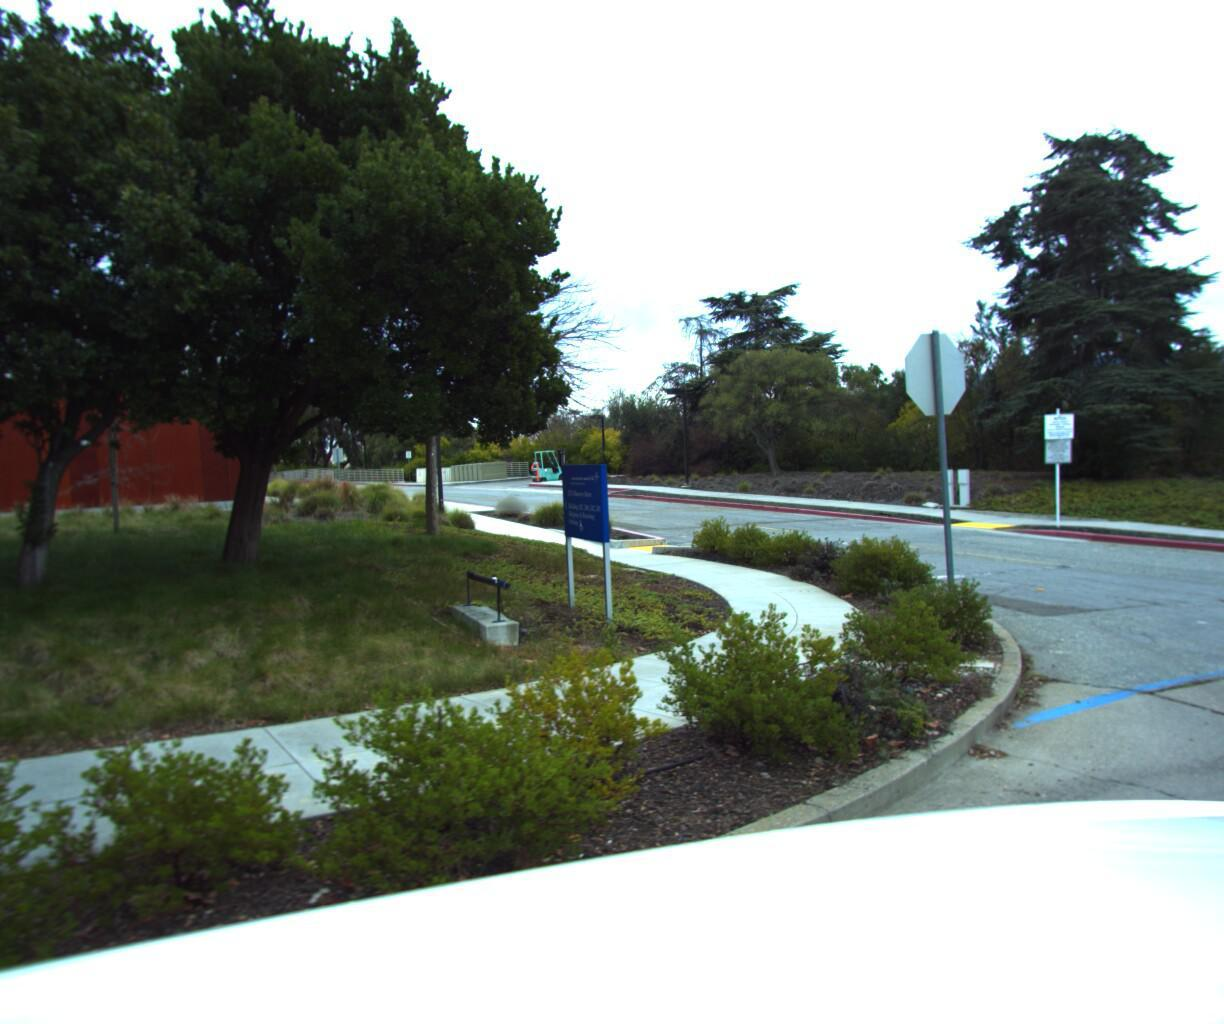other_vehicle: (525, 445, 572, 483)
